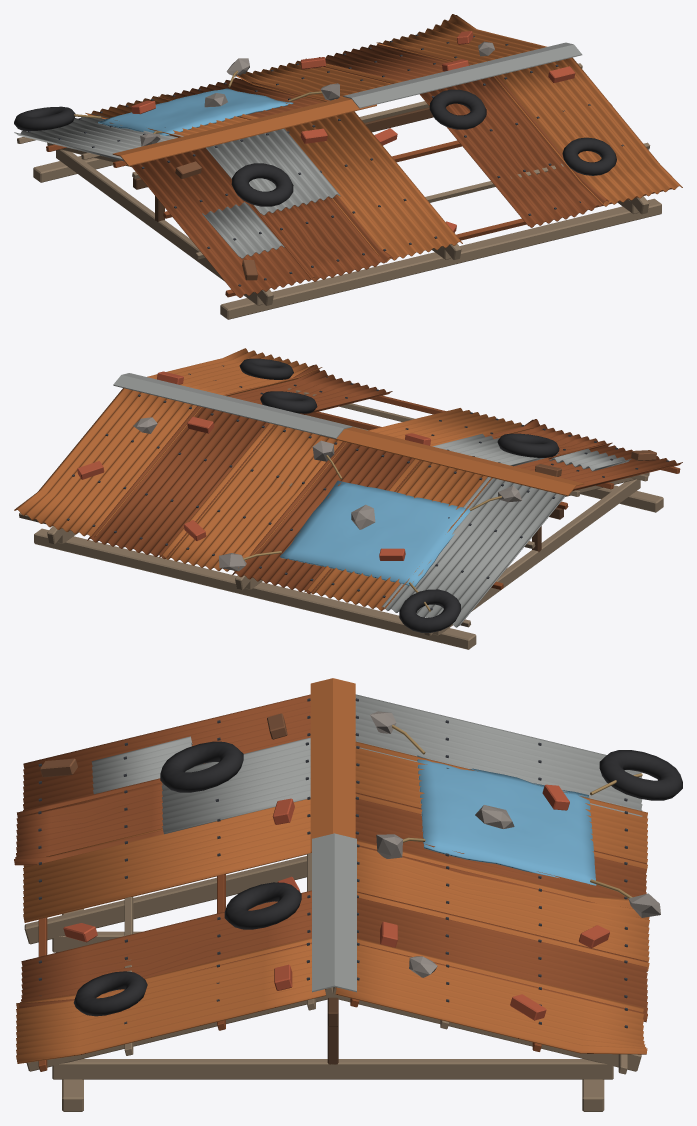
File: deco_roof_rust_patchwork.fbx
3 views of the same model, one above another, from view 1: azimuth 30°, elevation 25°; view 2: azimuth 150°, elevation 25°; view 3: azimuth 270°, elevation 25° (orthographic). The views are drawn at different scales.
Parts seen in each view (by area): view 1: Roof_RustPatchwork_Sheets, Roof_RustPatchwork_Frame, Roof_RustPatchwork_Weights, Roof_RustPatchwork_RidgeCap, Roof_RustPatchwork_Tarp, Roof_RustPatchwork_Purlins, Roof_RustPatchwork_Screws; view 2: Roof_RustPatchwork_Sheets, Roof_RustPatchwork_Frame, Roof_RustPatchwork_Tarp, Roof_RustPatchwork_Weights, Roof_RustPatchwork_RidgeCap, Roof_RustPatchwork_Purlins, Roof_RustPatchwork_Screws; view 3: Roof_RustPatchwork_Sheets, Roof_RustPatchwork_Frame, Roof_RustPatchwork_Weights, Roof_RustPatchwork_Tarp, Roof_RustPatchwork_RidgeCap, Roof_RustPatchwork_Purlins, Roof_RustPatchwork_Screws.
Part boxes in pixels (x1,y1,x2,y2): Roof_RustPatchwork_Sheets: (14, 14, 682, 297); Roof_RustPatchwork_Frame: (33, 107, 661, 319); Roof_RustPatchwork_Weights: (14, 31, 616, 280); Roof_RustPatchwork_RidgeCap: (112, 42, 582, 166); Roof_RustPatchwork_Tarp: (98, 88, 293, 135); Roof_RustPatchwork_Purlins: (17, 63, 671, 297); Roof_RustPatchwork_Screws: (27, 34, 623, 286); Roof_RustPatchwork_Sheets: (14, 348, 682, 627); Roof_RustPatchwork_Frame: (34, 415, 663, 649); Roof_RustPatchwork_Tarp: (280, 480, 470, 586); Roof_RustPatchwork_Weights: (77, 358, 656, 632); Roof_RustPatchwork_RidgeCap: (113, 373, 584, 496); Roof_RustPatchwork_Purlins: (19, 388, 680, 627); Roof_RustPatchwork_Screws: (66, 365, 669, 610); Roof_RustPatchwork_Sheets: (14, 694, 649, 1063); Roof_RustPatchwork_Frame: (24, 856, 641, 1111); Roof_RustPatchwork_Weights: (40, 711, 682, 1020); Roof_RustPatchwork_Tarp: (417, 755, 596, 885); Roof_RustPatchwork_RidgeCap: (310, 678, 356, 992); Roof_RustPatchwork_Purlins: (38, 853, 627, 1074); Roof_RustPatchwork_Screws: (38, 698, 627, 1028).
Bounding box in the file's own units: 533 × 108 × 489.
